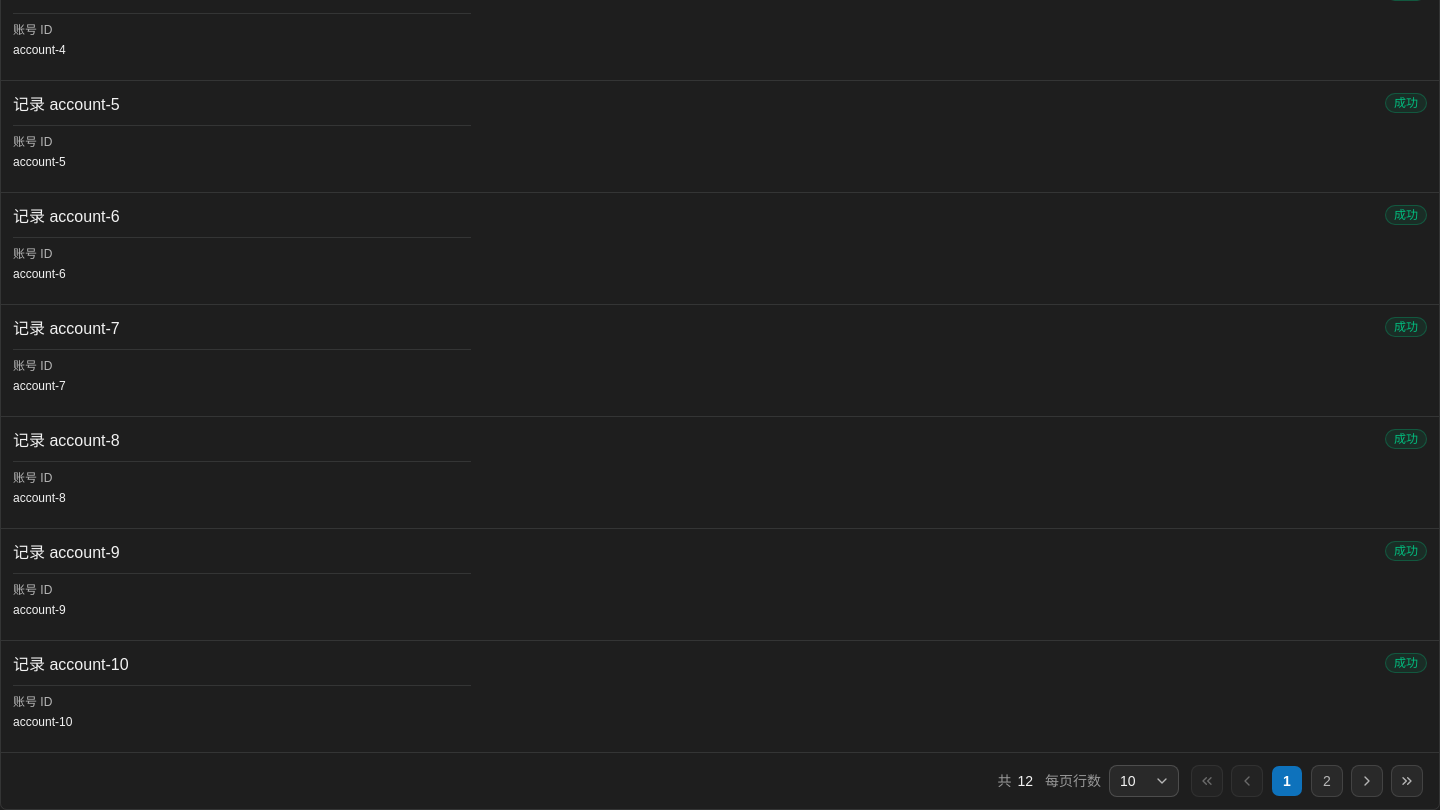
账号映射翻页时保留键中的账号 ID，并忽略非记录项
This screenshot has width=1440, height=810.
(page scrolled)
expect the text "记录 account-10" is shown: met, box 13,653 -> 129,677
Click the button named "转到下一页": (1367, 781) 1351,765 -> 1383,797
(page scrolled)
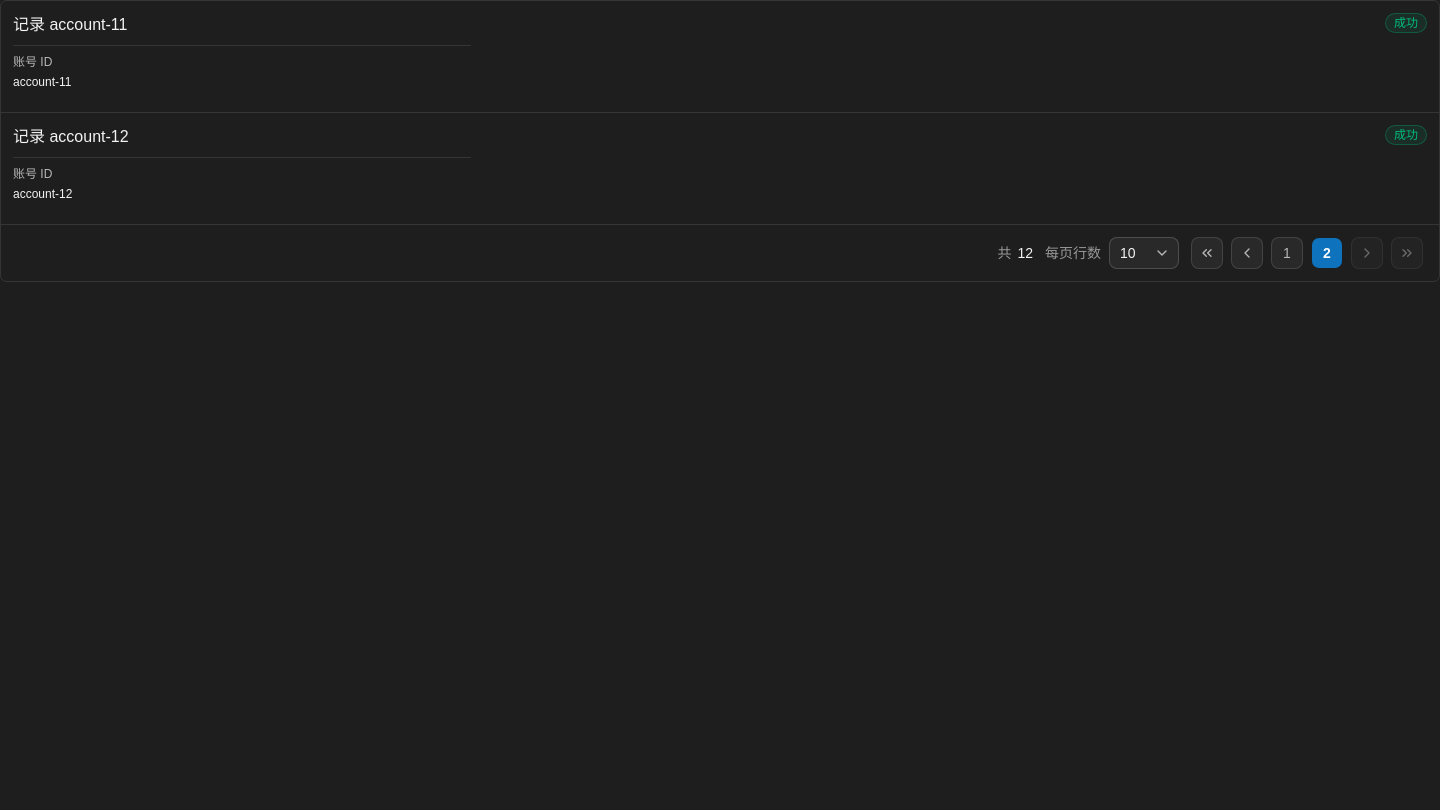
expect the button named "转到下一页" is disabled: met, box 1351,237 -> 1383,269
expect the text "记录 account-11" is shown: met, box 13,13 -> 127,37
expect the text "记录 account-12" is shown: met, box 13,125 -> 129,149
